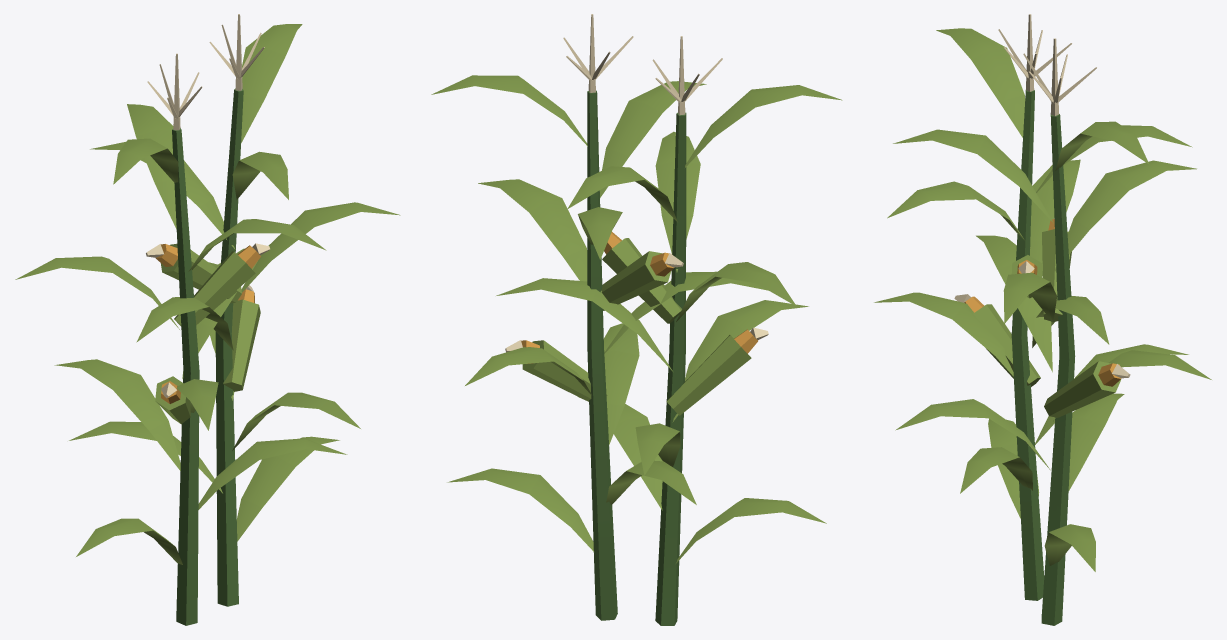
File: crop_corn_mature.glb
3 renders of one model, left to right at view 1: azimuth 30°, elevation 25°; view 2: azimuth 150°, elevation 25°; view 3: azimuth 270°, elevation 25°, orthographic. The views are drawn at different scales.
Parts seen in each view (by area): view 1: corn_ear_00_0_husk, corn_stalk_00, corn_ear_00_0_silk, corn_ear_00_0_cob; view 2: corn_ear_00_0_husk, corn_stalk_00, corn_ear_00_0_silk, corn_ear_00_0_cob; view 3: corn_ear_00_0_husk, corn_stalk_00, corn_ear_00_0_silk, corn_ear_00_0_cob.
Part boxes in pixels (<box>): corn_ear_00_0_husk: <box>15,24,400,564</box>; corn_stalk_00: <box>172,88,243,625</box>; corn_ear_00_0_silk: <box>146,14,269,398</box>; corn_ear_00_0_cob: <box>155,244,260,403</box>; corn_ear_00_0_husk: <box>431,75,842,563</box>; corn_stalk_00: <box>587,90,686,625</box>; corn_ear_00_0_silk: <box>505,14,768,352</box>; corn_ear_00_0_cob: <box>521,232,757,364</box>; corn_ear_00_0_husk: <box>874,28,1211,571</box>; corn_stalk_00: <box>1011,90,1075,625</box>; corn_ear_00_0_silk: <box>954,14,1130,378</box>; corn_ear_00_0_cob: <box>964,219,1121,386</box>.
Bounding box in the file's own units: 1.35 × 2.16 × 1.13.
